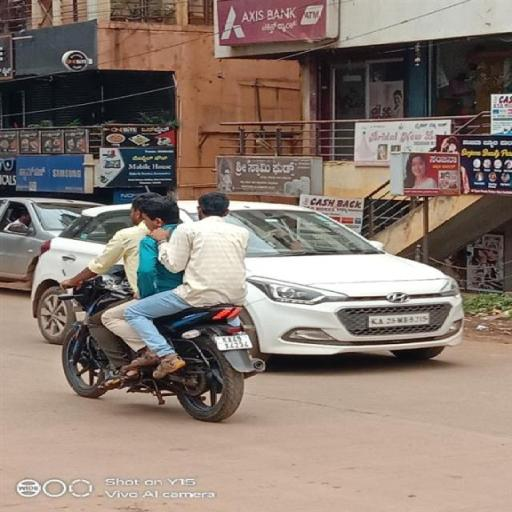tripple riding: (86, 188, 263, 308)
